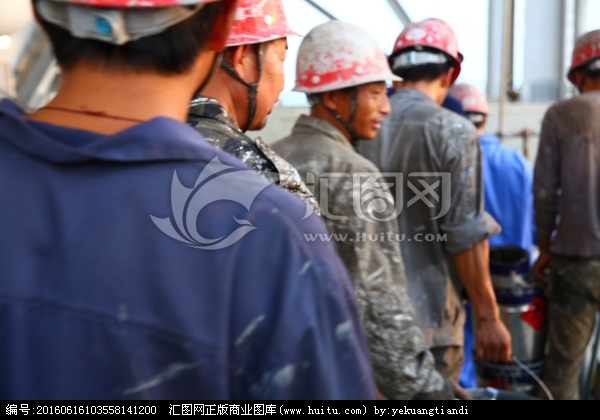red: (198, 2, 292, 133), (294, 17, 392, 141), (391, 18, 465, 99), (563, 27, 600, 96), (446, 84, 487, 133)
